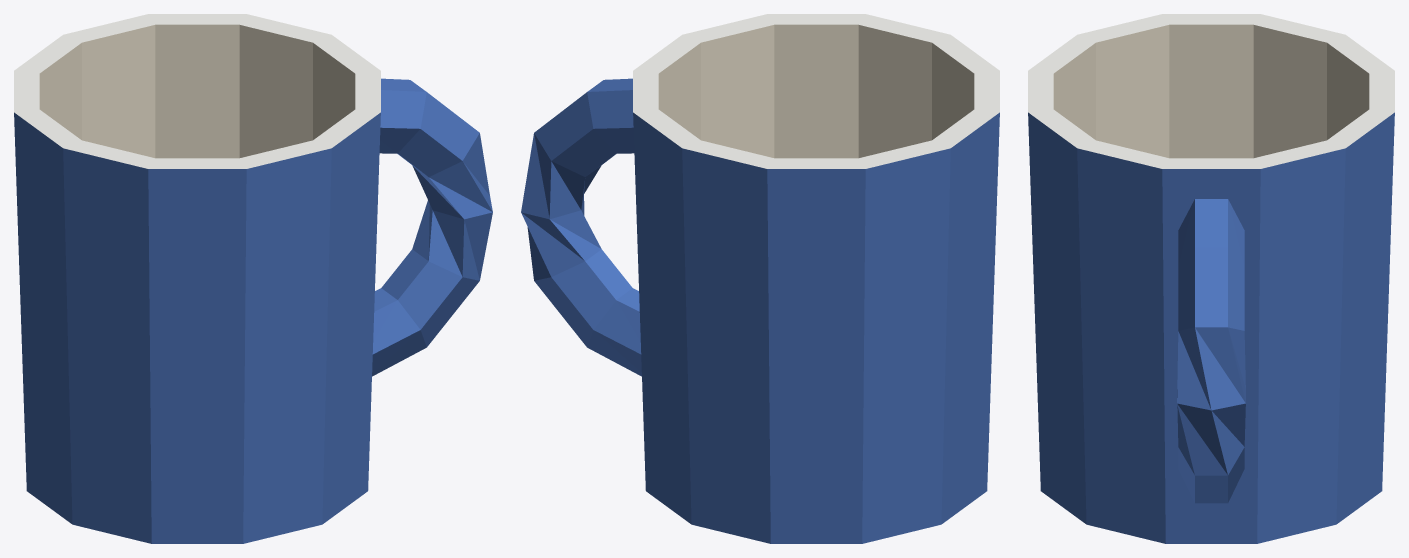
File: Prop_Mug.fbx
3 views of the same model, side by side, from view 1: azimuth 30°, elevation 25°; view 2: azimuth 150°, elevation 25°; view 3: azimuth 270°, elevation 25° (orthographic).
Visible parts, largest first — view 1: Prop_Mug; view 2: Prop_Mug; view 3: Prop_Mug.
Boxes of the visible parts, x1=… form: Prop_Mug: x1=14, y1=14, x2=492, y2=543; Prop_Mug: x1=521, y1=14, x2=999, y2=543; Prop_Mug: x1=1028, y1=14, x2=1394, y2=543.
Bounding box in the file's own units: 0.118 × 0.095 × 0.0831.
